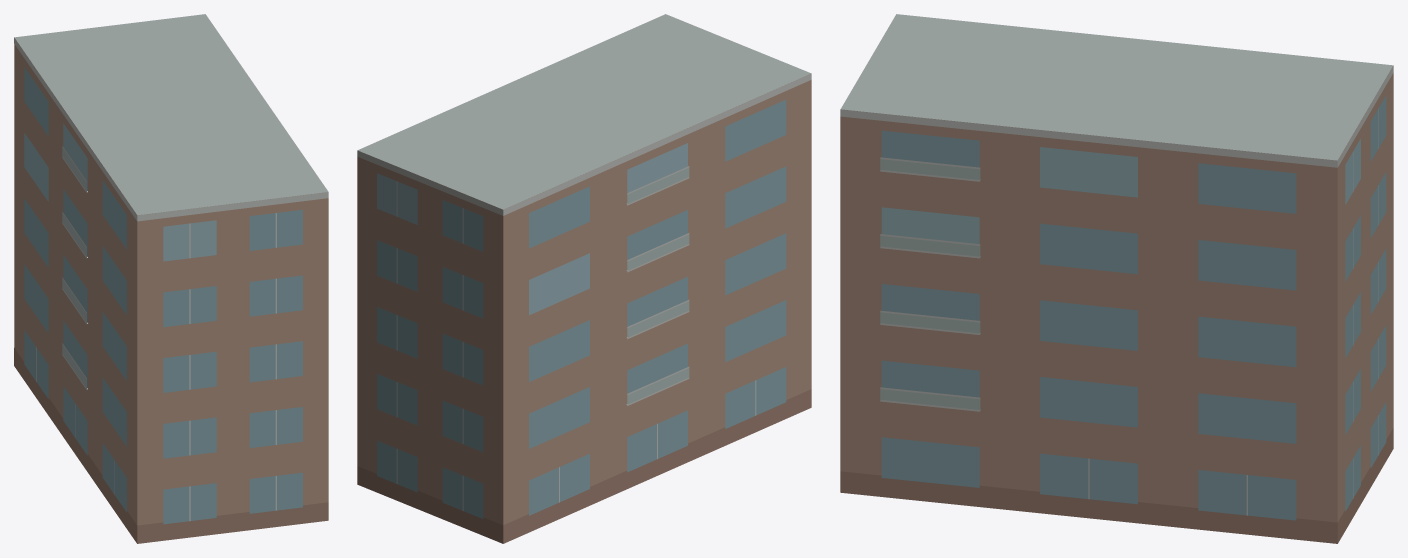
Rendered from survey-upis-32870210.glb.
3 views of the same model, side by side, from view 1: azimuth 30°, elevation 25°; view 2: azimuth 150°, elevation 25°; view 3: azimuth 270°, elevation 25° (orthographic). The views are drawn at different scales.
Visible parts, largest first — view 1: survey-upis-32870210.tmp; view 2: survey-upis-32870210.tmp; view 3: survey-upis-32870210.tmp.
Boxes of the visible parts, <box> form: survey-upis-32870210.tmp: <box>14,14,328,543</box>; survey-upis-32870210.tmp: <box>357,14,811,543</box>; survey-upis-32870210.tmp: <box>840,14,1393,543</box>.
Size of the model in its own units: 10.67 by 13 by 17.01.
